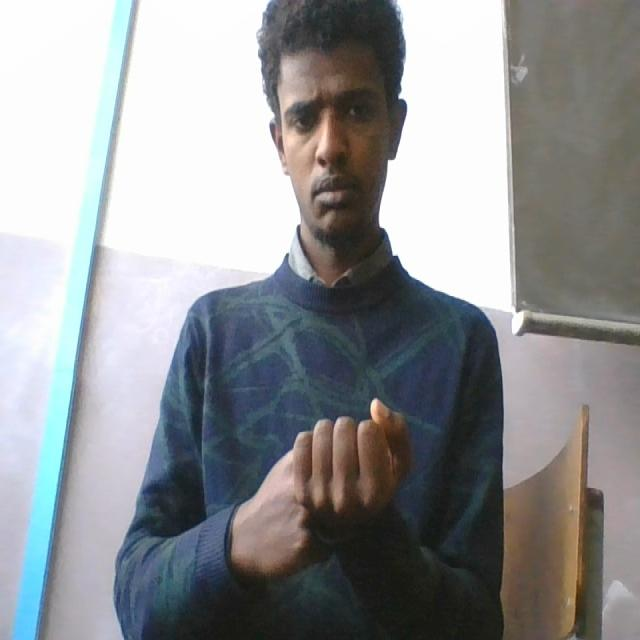beg: (223, 385, 421, 596)
